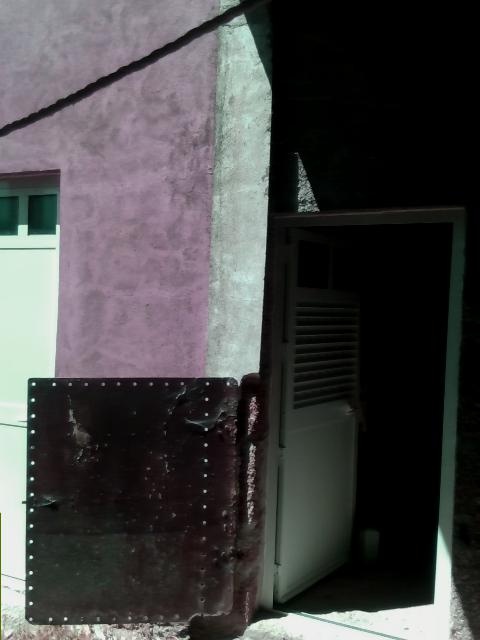semi_door: (260, 205, 465, 614)
